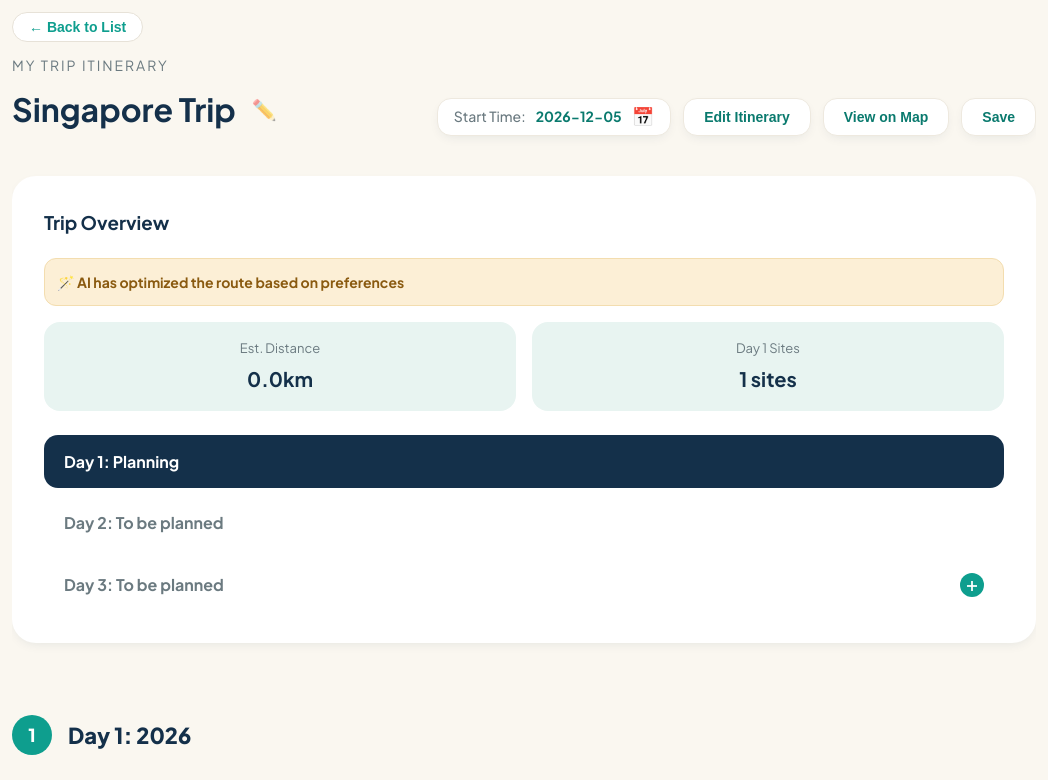
Test: ItineraryDetailPage › renders trip title and days
Expected: the heading "Singapore Trip" is shown, [12,84,236,136]
Expected: the text "Day 1: Planning" is shown, [64,449,179,474]
// 🟢 Trigger Title Edit to hit more lines
What coordinates should you click on to do the following:
click the button titled "Edit trip title"
I would click on:
 (264, 110)
Its box is [248,94,281,126].
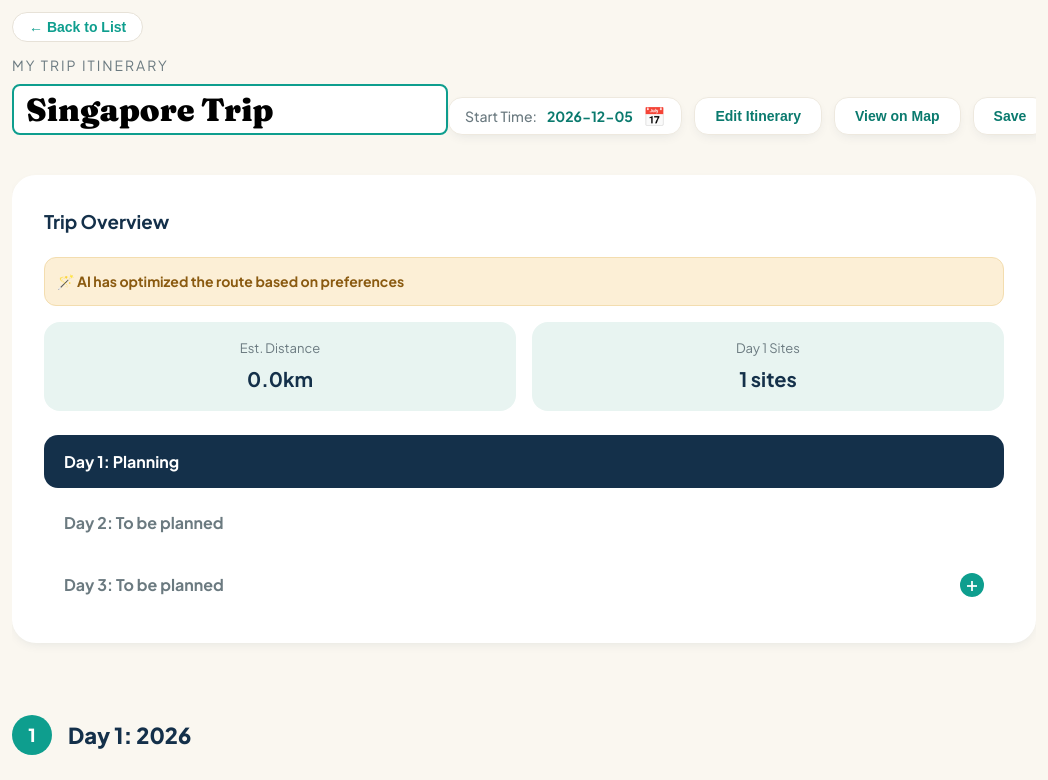
Result: the field showing "Singapore Trip" is shown at [12,84,448,135]
